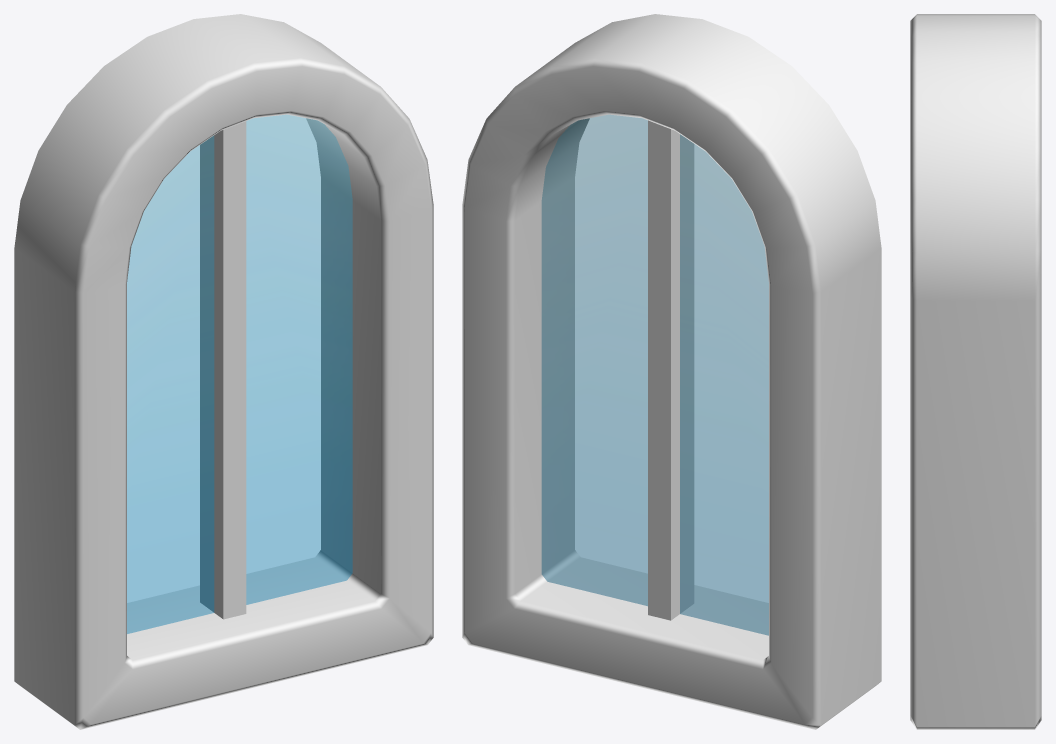
Rendered from Window_White_14.glb.
3 views of the same model, side by side, from view 1: azimuth 30°, elevation 25°; view 2: azimuth 150°, elevation 25°; view 3: azimuth 270°, elevation 25° (orthographic).
Parts seen in each view (by area): view 1: Window_White_14; view 2: Window_White_14; view 3: Window_White_14.
Part boxes in pixels (x1=…): Window_White_14: x1=14, y1=14, x2=433, y2=729; Window_White_14: x1=462, y1=14, x2=881, y2=729; Window_White_14: x1=910, y1=14, x2=1041, y2=729.
Size of the model in its own units: 1.24 by 2.07 by 0.4.
Materials: 2 (2 with a texture image).
